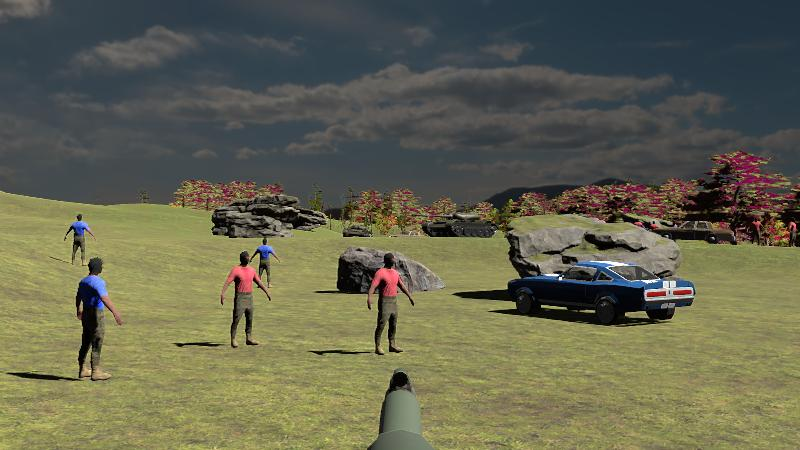Human: (76, 255, 122, 382), (220, 251, 271, 348), (367, 257, 414, 355), (64, 212, 95, 267), (249, 237, 280, 290)
Tank: (409, 211, 499, 239)
car: (507, 261, 697, 325), (647, 220, 736, 245)
